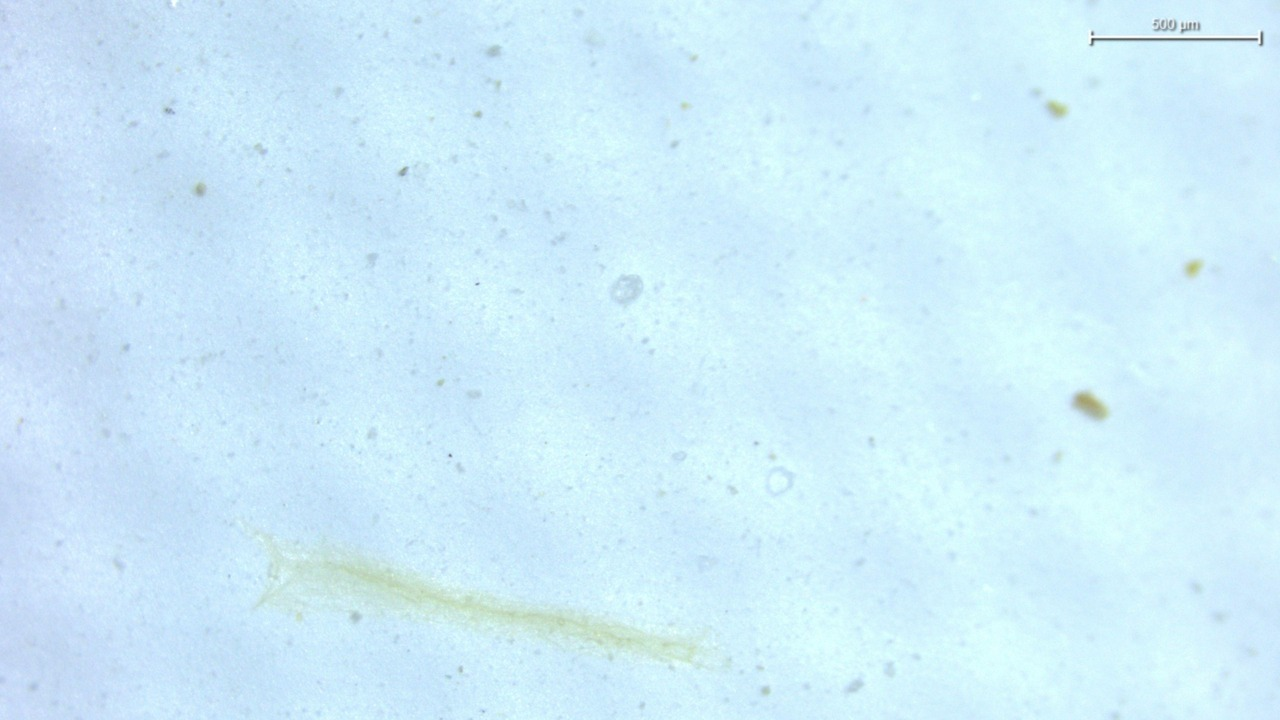microplastic_fragment: (610, 275, 643, 305)
